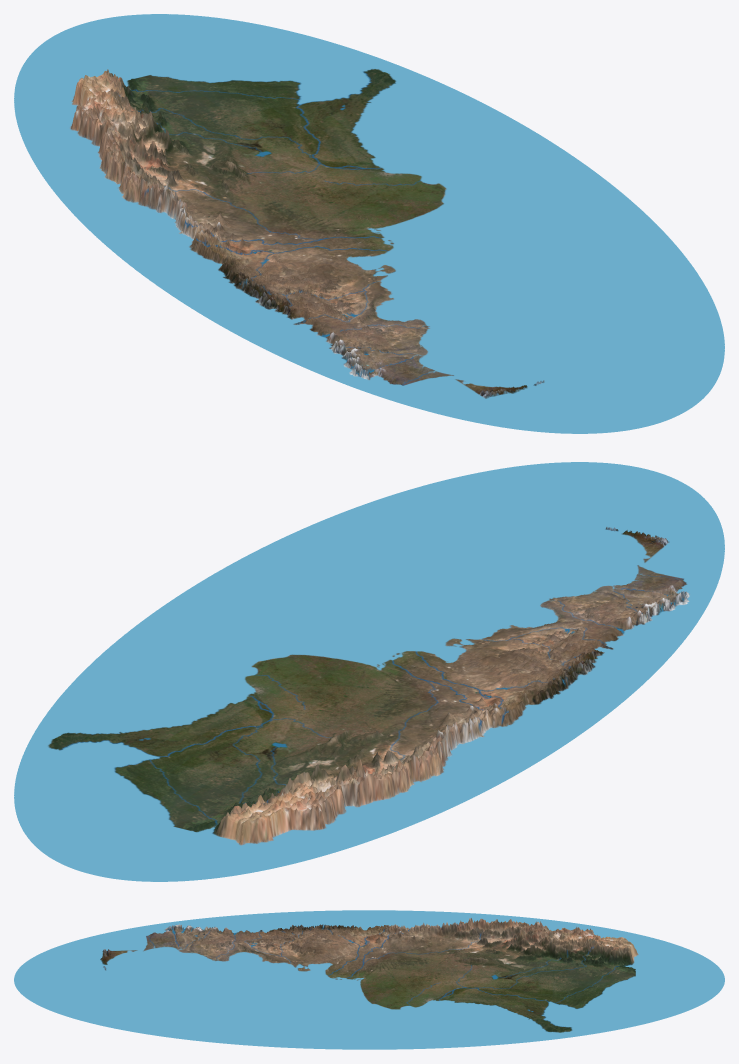
File: ARG-previa-terrain.glb
3 renders of one model, top to bottom at view 1: azimuth 30°, elevation 25°; view 2: azimuth 150°, elevation 25°; view 3: azimuth 270°, elevation 25°, orthographic. The views are drawn at different scales.
Parts seen in each view (by area): view 1: Argentina; view 2: Argentina; view 3: Argentina.
Boxes of the visible parts, left/top/right/bottom form: Argentina: left=14, top=14, right=724, bottom=433; Argentina: left=14, top=462, right=724, bottom=881; Argentina: left=14, top=910, right=724, bottom=1049.
Size of the model in its own units: 1.07 by 0.0697 by 2.31.
1 material, 1 textured.
